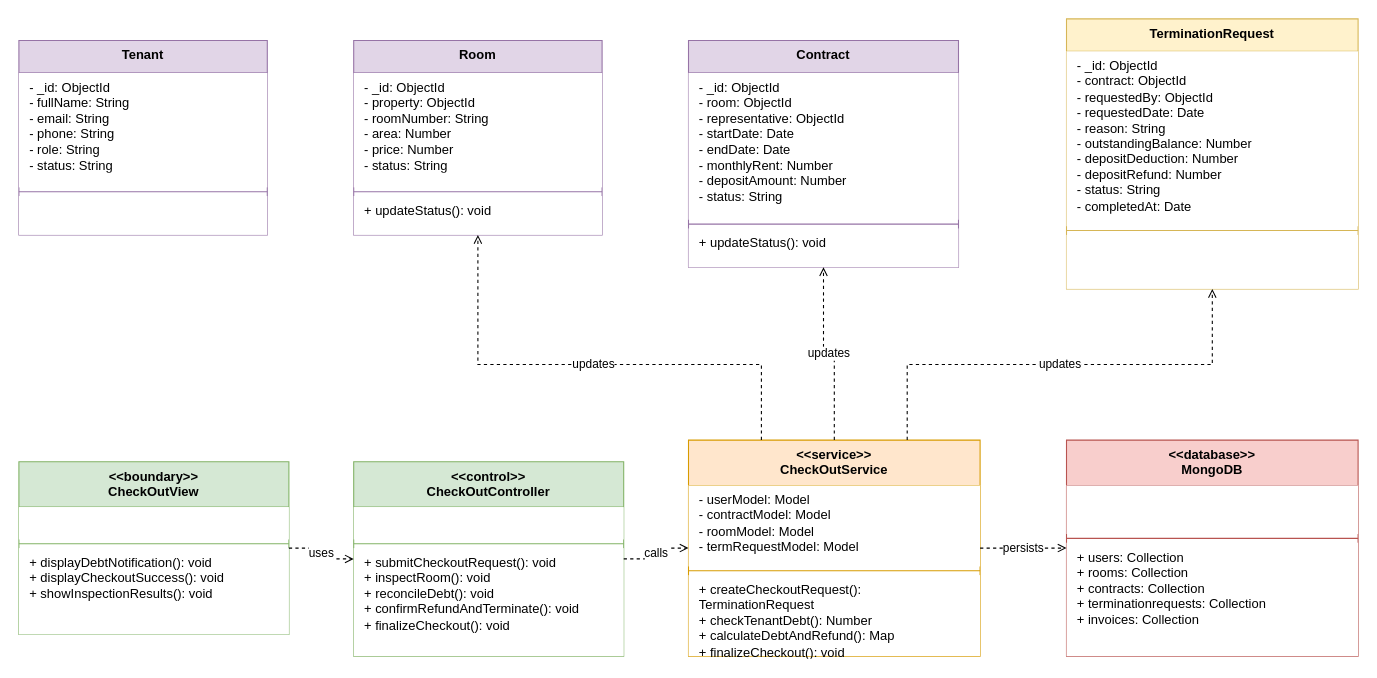
Some shapes in this 1377 by 678 pixel diagram are drawn without their labels. The shapes that lost their labels are listed below. From the top down, each one's centre as x and y in pixels, then its label:
At point (142, 214): "+ requestCheckout(): void".
At point (1212, 261): "+ setStatus(): void + calculateRefund(): Number".
At point (153, 523): "- controller: CheckOutController".
At point (488, 523): "- service: CheckOutService".
At point (1212, 509): "- connectionUri: String - dbName: String".
